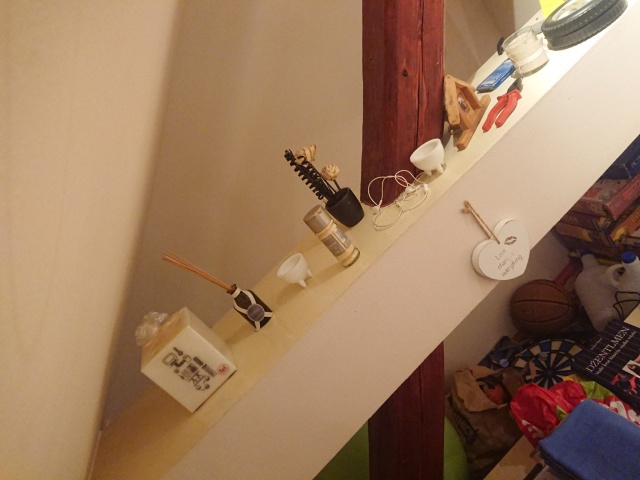Kotanyi Garlic Granules 70g: (301, 202, 362, 269)
